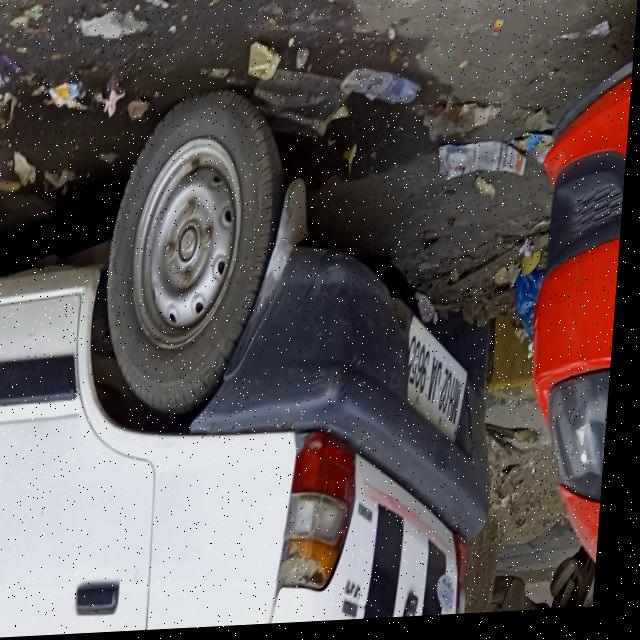plate: (407, 316, 478, 452)
